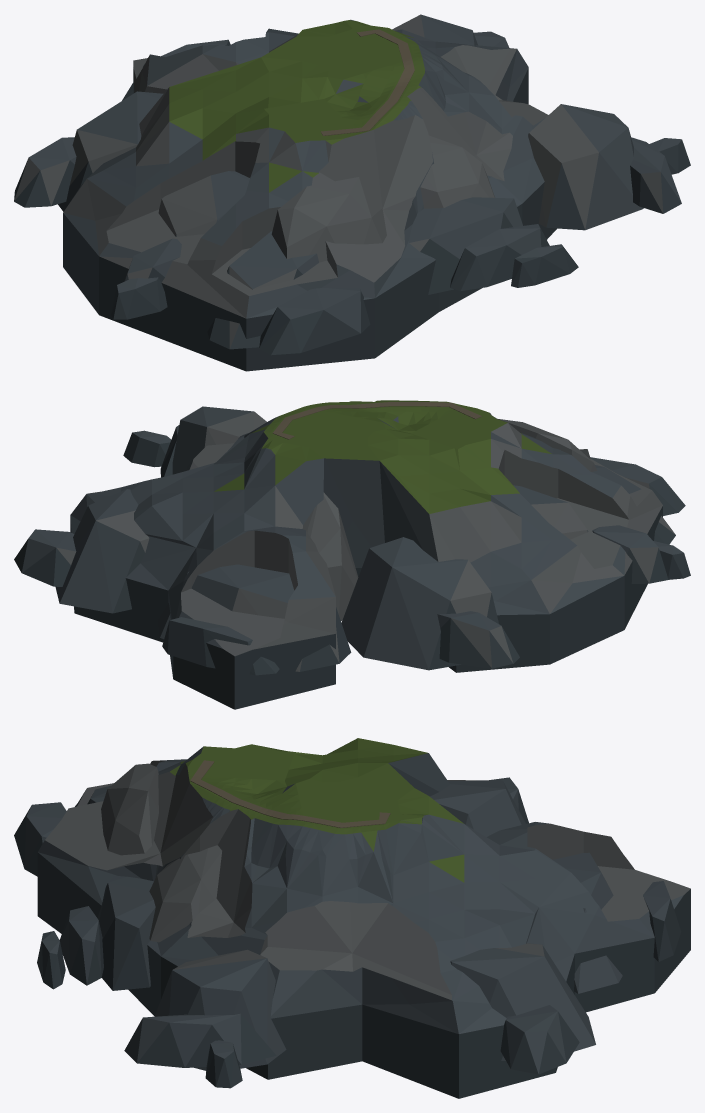
Rendered from island_c.glb.
The picture shows the model from 3 angles, top to bottom: view 1: azimuth 30°, elevation 25°; view 2: azimuth 150°, elevation 25°; view 3: azimuth 270°, elevation 25°; orthographic projection. The views are drawn at different scales.
Parts seen in each view (by area): view 1: island_c_Coast short olive grass, island_c_Coast blue grey bedrock, island_c_Coast weathered stone footpath; view 2: island_c_Coast short olive grass, island_c_Coast blue grey bedrock, island_c_Coast weathered stone footpath; view 3: island_c_Coast short olive grass, island_c_Coast blue grey bedrock, island_c_Coast weathered stone footpath.
Boxes of the visible parts, left/top/right/bottom form: island_c_Coast short olive grass: left=63, top=19, right=556, bottom=371; island_c_Coast blue grey bedrock: left=14, top=14, right=690, bottom=355; island_c_Coast weathered stone footpath: left=320, top=29, right=414, bottom=135; island_c_Coast short olive grass: left=70, top=400, right=662, bottom=709; island_c_Coast blue grey bedrock: left=14, top=406, right=690, bottom=675; island_c_Coast weathered stone footpath: left=272, top=402, right=481, bottom=439; island_c_Coast short olive grass: left=37, top=738, right=690, bottom=1098; island_c_Coast blue grey bedrock: left=14, top=777, right=681, bottom=1088; island_c_Coast weathered stone footpath: left=190, top=760, right=390, bottom=827.
Bounding box in the file's own units: 64.61 × 17.59 × 60.
